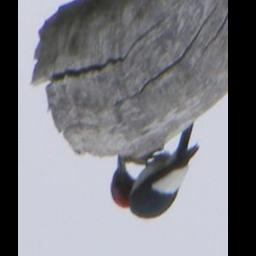Woodpecker: (107, 120, 203, 223)
